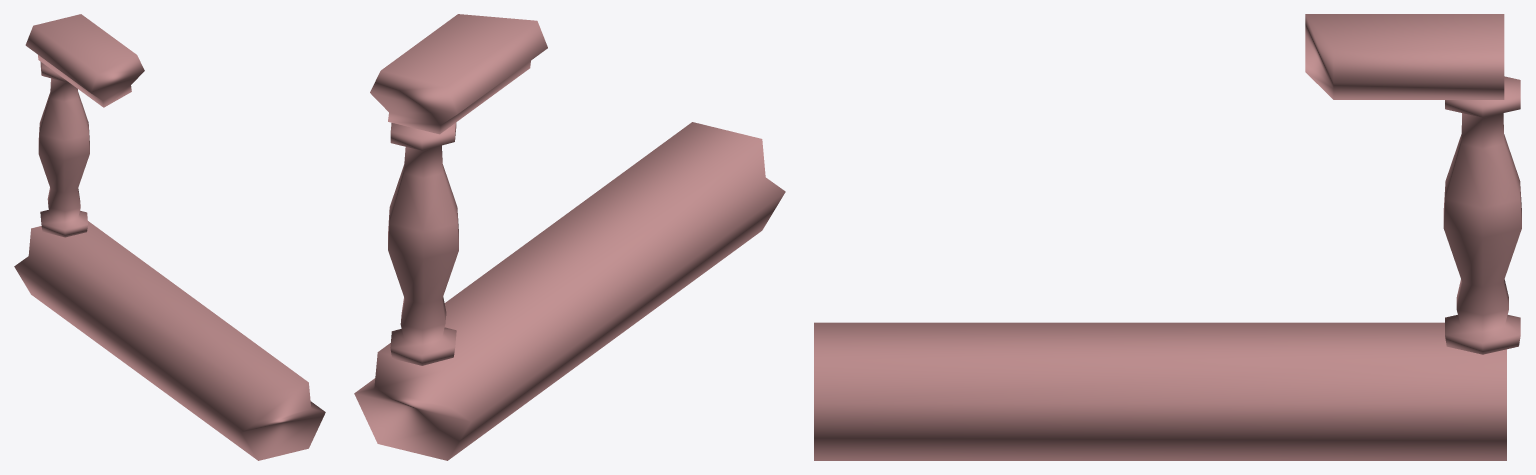
Rendered from Stone_Baluster_03_Lod1.fbx.
3 renders of one model, left to right at view 1: azimuth 30°, elevation 25°; view 2: azimuth 150°, elevation 25°; view 3: azimuth 270°, elevation 25°, orthographic. The views are drawn at different scales.
Parts seen in each view (by area): view 1: Stone_Baluster_03_Lod1; view 2: Stone_Baluster_03_Lod1; view 3: Stone_Baluster_03_Lod1.
Boxes of the visible parts, x1,y1,x2,y2 form: Stone_Baluster_03_Lod1: (14, 14, 325, 460); Stone_Baluster_03_Lod1: (354, 14, 785, 460); Stone_Baluster_03_Lod1: (814, 14, 1521, 460).
Bounding box in the file's own units: 32.21 × 98.03 × 153.
